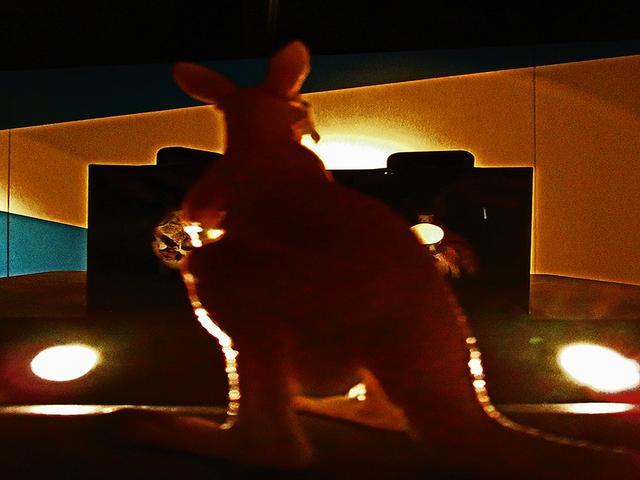kangaroo: (111, 43, 581, 471)
